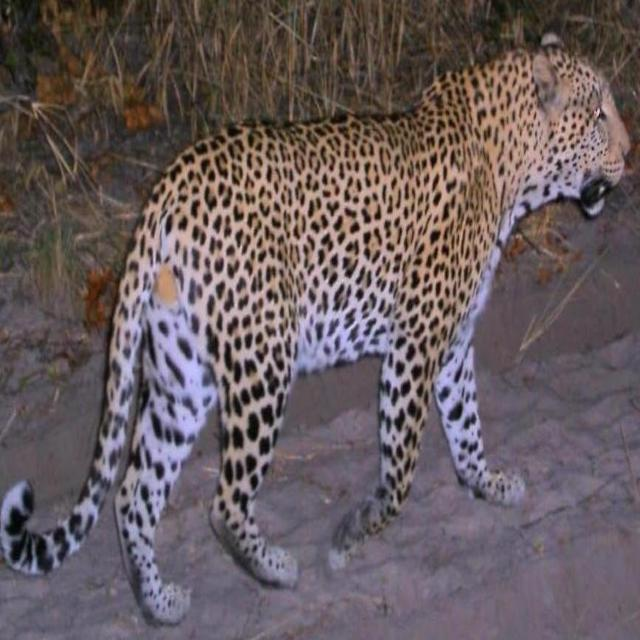Leopard: (4, 46, 624, 619)
